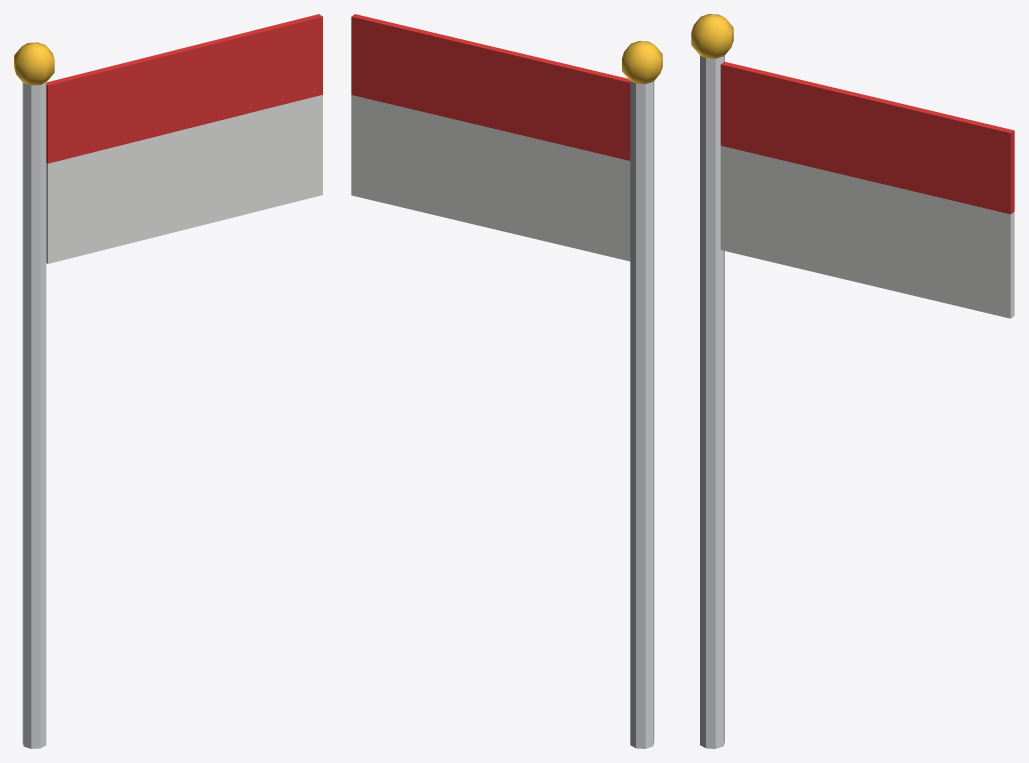
Rendered from Flag.fbx.
The picture shows the model from 3 angles, left to right: view 1: azimuth 30°, elevation 25°; view 2: azimuth 150°, elevation 25°; view 3: azimuth 330°, elevation 25°; orthographic projection. The views are drawn at different scales.
Parts seen in each view (by area): view 1: Flag; view 2: Flag; view 3: Flag.
Boxes of the visible parts, box(x1,y1,x2,y2) form: Flag: box(14, 14, 322, 748); Flag: box(351, 14, 662, 748); Flag: box(691, 14, 1014, 748).
Size of the model in its own units: 2.87 by 6.28 by 0.3424.
1 material, 1 textured.
